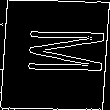M_E: (6, 31, 104, 79)
